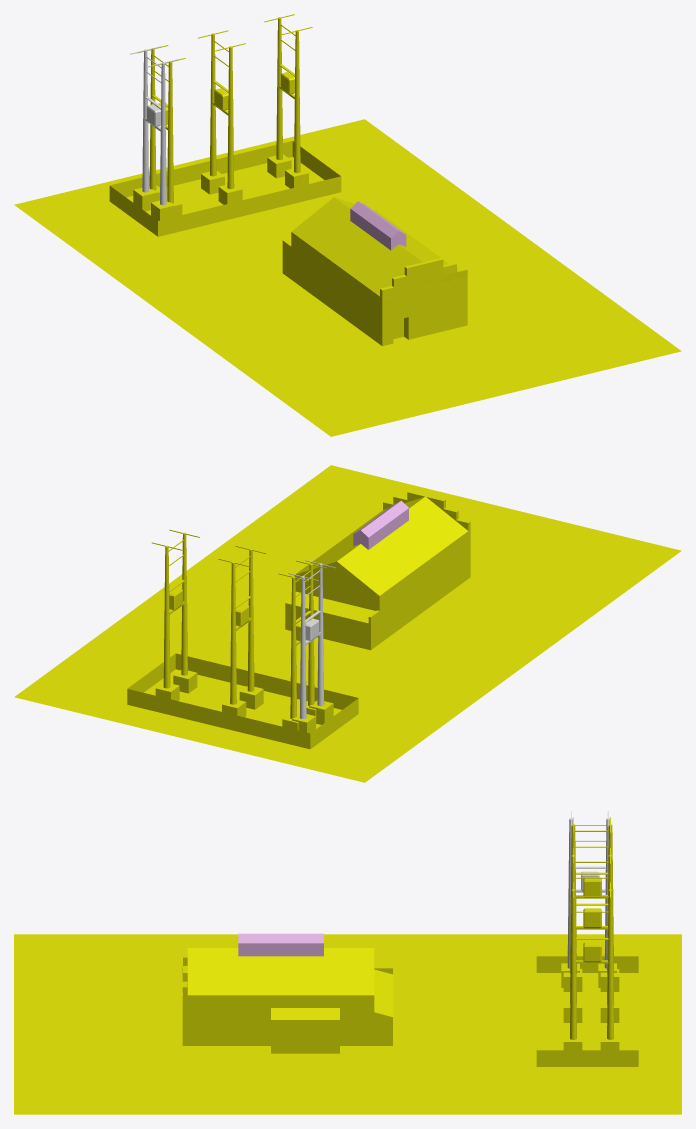
Rendered from PowerPlant.glb.
The picture shows the model from 3 angles, top to bottom: view 1: azimuth 30°, elevation 25°; view 2: azimuth 150°, elevation 25°; view 3: azimuth 270°, elevation 25°; orthographic projection. The views are drawn at different scales.
Visible parts, largest first — view 1: Lot, Main, Fence, TransformerPowerPole_1.002, TransformerPowerPole_1.001, TransformerPowerPole_1, Facade, Skylight, Pole2, Pole1; view 2: Lot, Main, Fence, Extensions, TransformerPowerPole_1.001, TransformerPowerPole_1.002, TransformerPowerPole_1, Skylight, Pole1, Pole2, Facade; view 3: Lot, Main, Extensions, TransformerPowerPole_1.002, Fence, TransformerPowerPole_1.001, Skylight, TransformerPowerPole_1, Pole2.
Boxes of the visible parts, x1,y1,x2,y2 form: Lot: (14, 119, 681, 436); Main: (291, 197, 467, 346); Fence: (109, 141, 341, 236); TransformerPowerPole_1.002: (264, 14, 312, 188); TransformerPowerPole_1.001: (198, 30, 245, 204); TransformerPowerPole_1: (138, 45, 185, 216); Facade: (380, 258, 467, 298); Skylight: (350, 201, 406, 250); Pole2: (160, 62, 166, 205); Pole1: (142, 49, 148, 192); Lot: (14, 465, 681, 782); Main: (294, 496, 470, 643); Fence: (127, 653, 358, 749); Extensions: (285, 591, 379, 650); TransformerPowerPole_1.001: (218, 546, 266, 717); TransformerPowerPole_1.002: (152, 529, 199, 700); TransformerPowerPole_1: (278, 560, 326, 730); Skylight: (353, 500, 408, 549); Pole1: (299, 576, 306, 718); Pole2: (317, 563, 324, 706); Facade: (383, 490, 470, 530); Lot: (14, 934, 681, 1114); Main: (182, 948, 374, 1045); Extensions: (271, 967, 393, 1053); TransformerPowerPole_1.002: (563, 882, 619, 1050); Fence: (536, 956, 638, 1066); TransformerPowerPole_1.001: (563, 848, 619, 1022); Skylight: (238, 933, 323, 956); TransformerPowerPole_1: (563, 817, 619, 991); Pole2: (567, 818, 572, 968).
Size of the model in its own units: 46 by 19.83 by 72.
